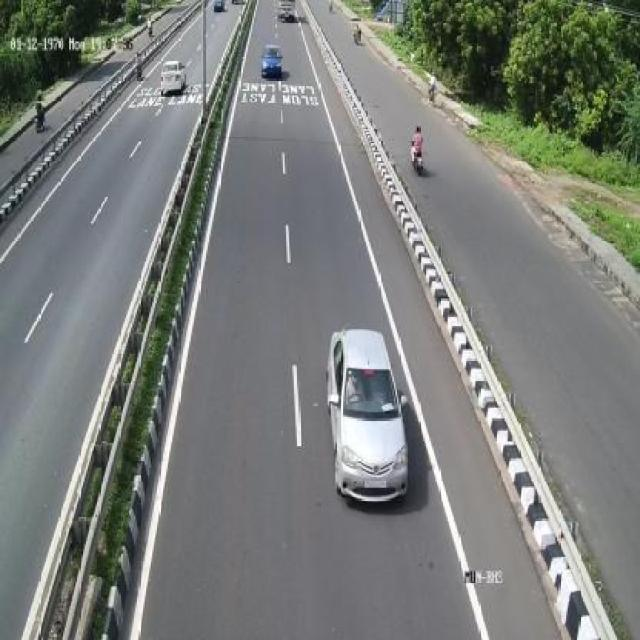car: (329, 320, 411, 509), (156, 56, 198, 106), (172, 1, 210, 32), (262, 40, 288, 85)
